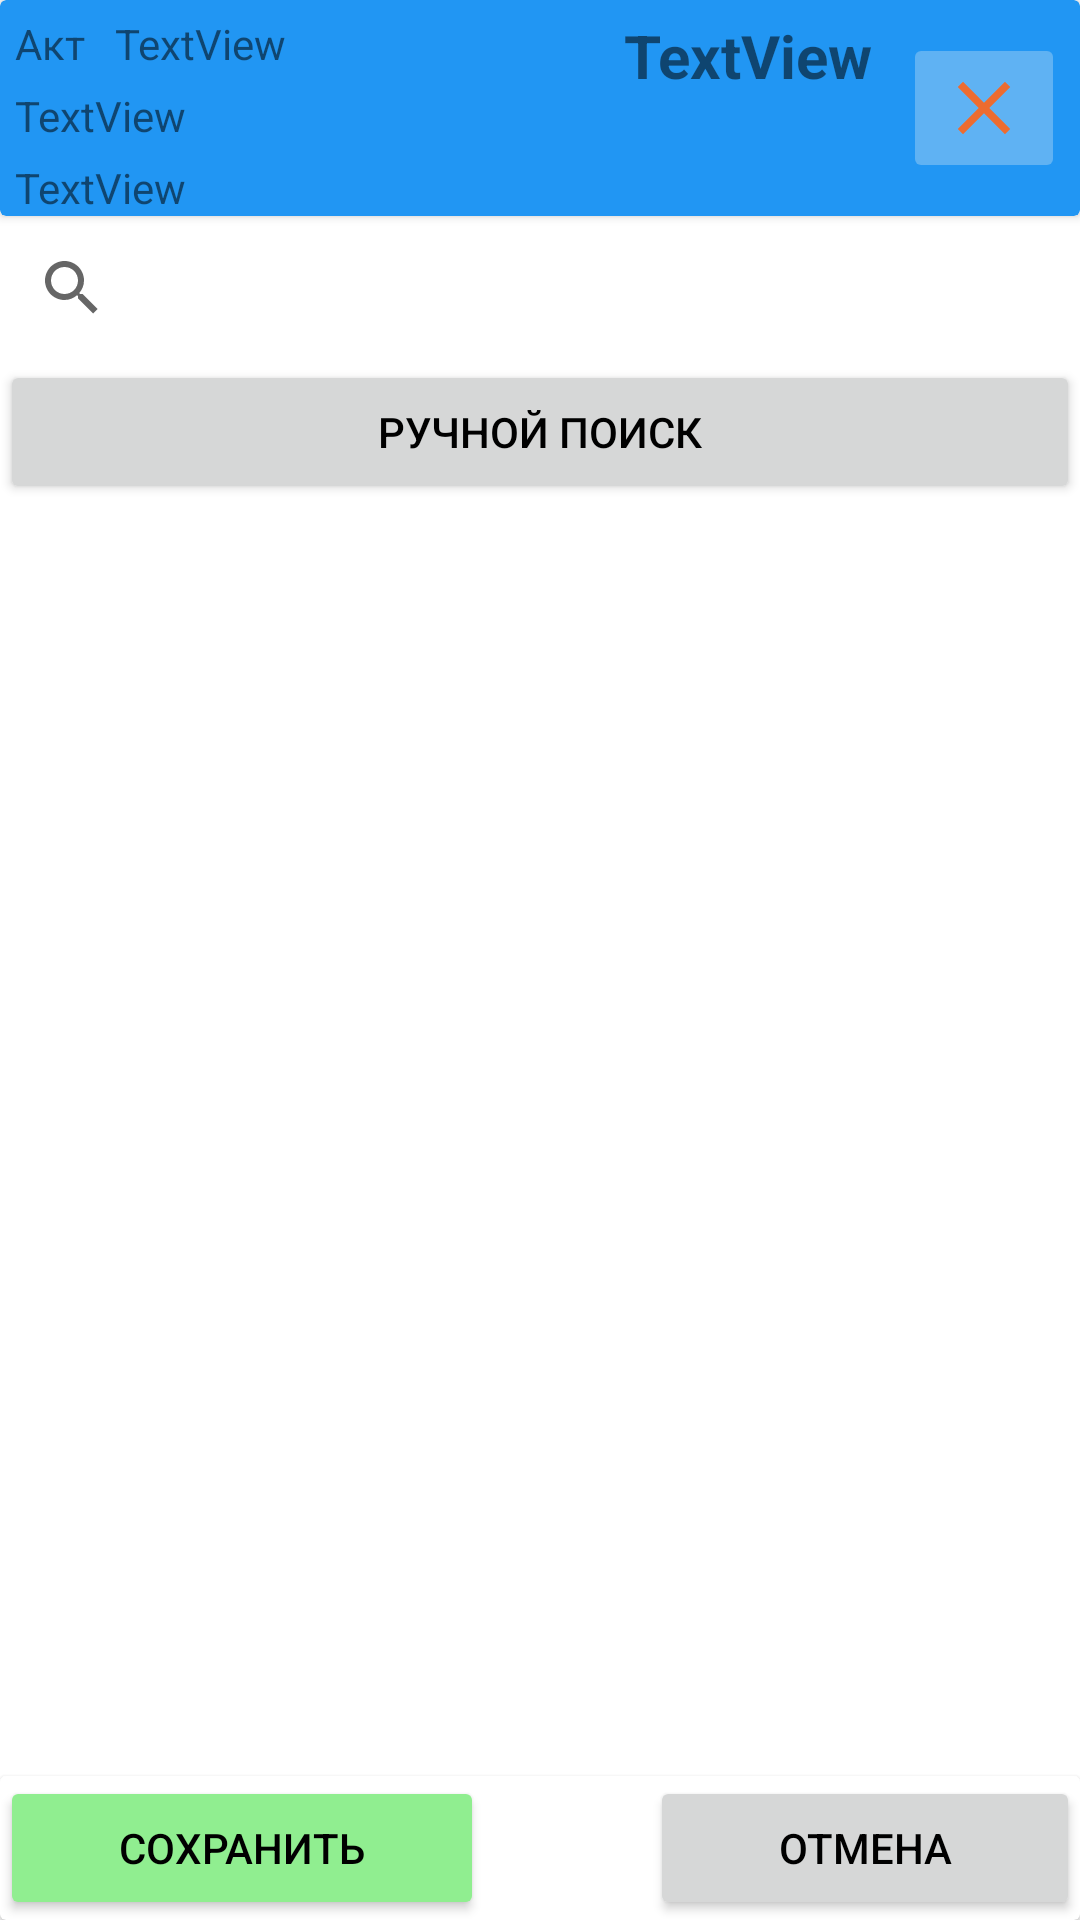

Icons on this 1080w x 1920h Android screen, each with its box as (x1, y1, x2, y2):
close: (915, 51, 1053, 165)
